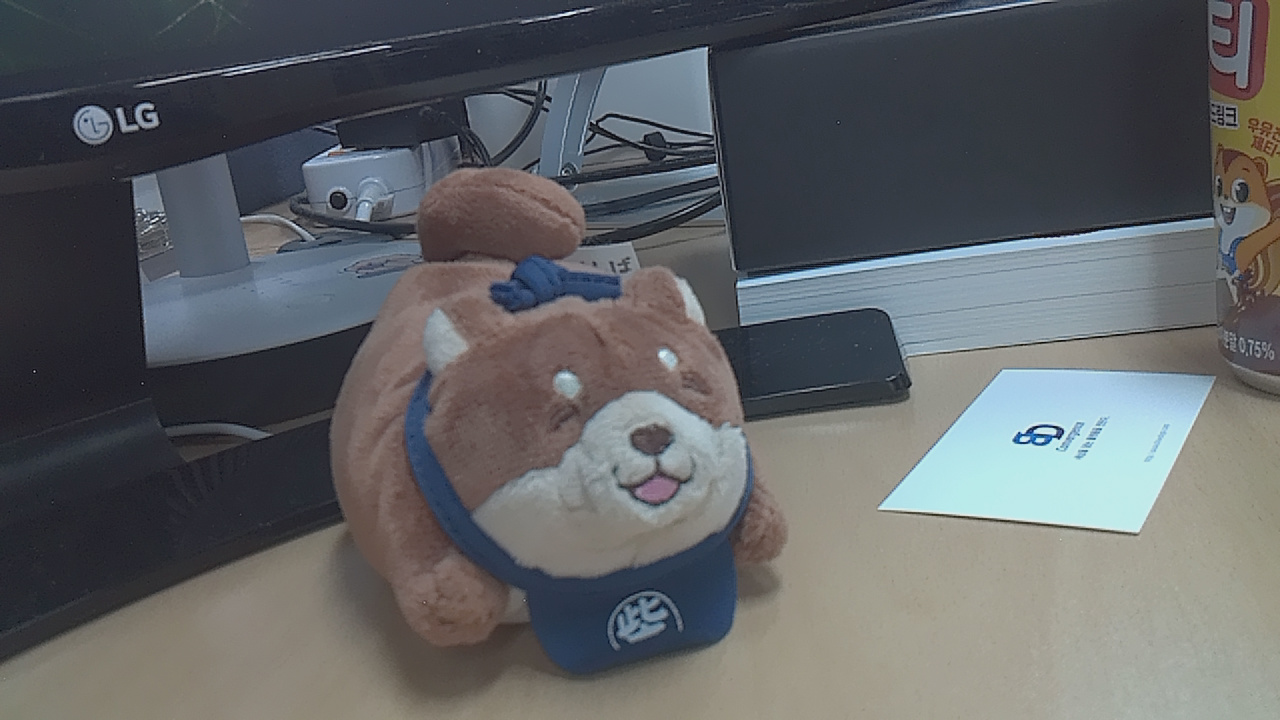BD: (1007, 403, 1135, 479)
cuteDog: (293, 183, 838, 686)
